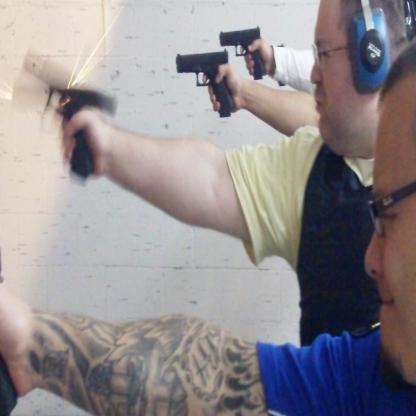gun: (39, 72, 118, 183), (177, 49, 235, 119), (220, 23, 268, 82)
